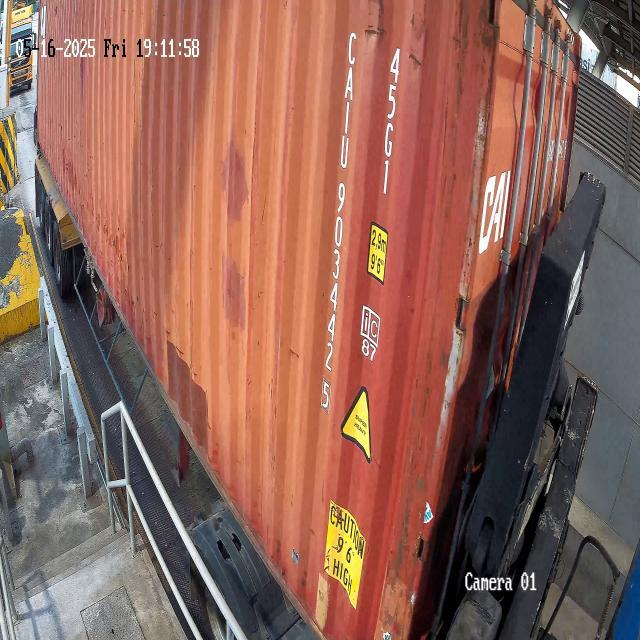ISO: (376, 48, 408, 199)
container_number: (306, 26, 364, 417)
